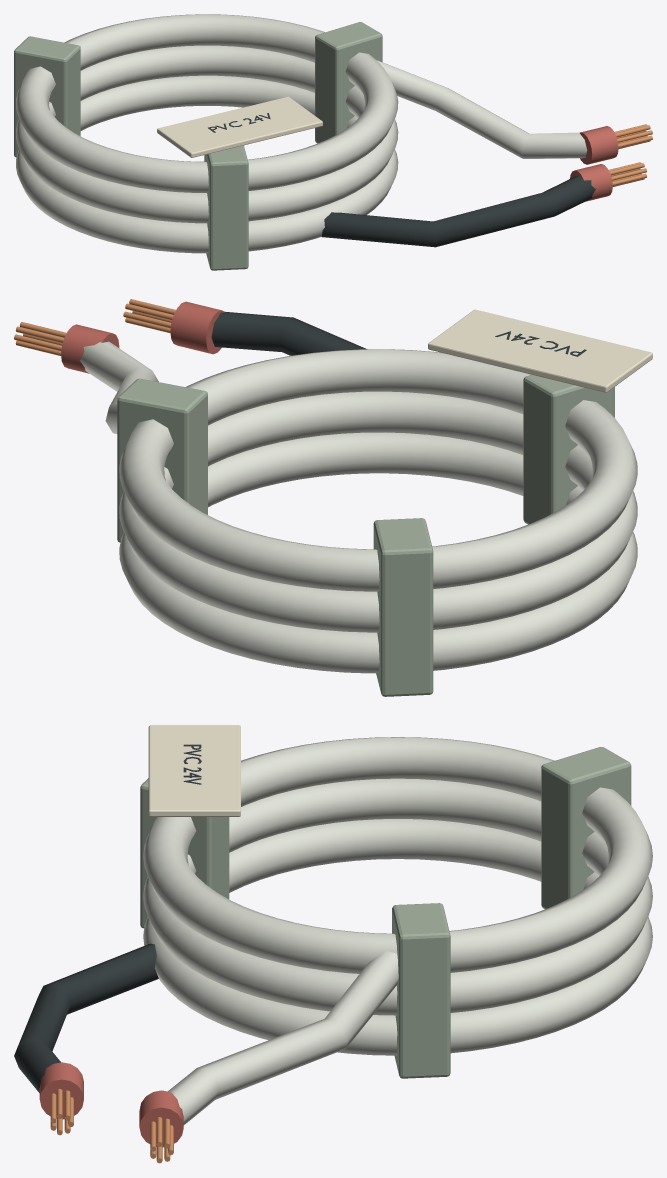
Rendered from loot_wire.glb.
3 views of the same model, one above another, from view 1: azimuth 30°, elevation 25°; view 2: azimuth 150°, elevation 25°; view 3: azimuth 270°, elevation 25° (orthographic). The views are drawn at different scales.
Visible parts, largest first — view 1: loot_wire.001; view 2: loot_wire.001; view 3: loot_wire.001.
Boxes of the visible parts, x1=… form: loot_wire.001: x1=14, y1=14, x2=652, y2=270; loot_wire.001: x1=14, y1=299, x2=652, y2=696; loot_wire.001: x1=14, y1=725, x2=652, y2=1163.
Bounding box in the file's own units: 0.216 × 0.0516 × 0.173.
